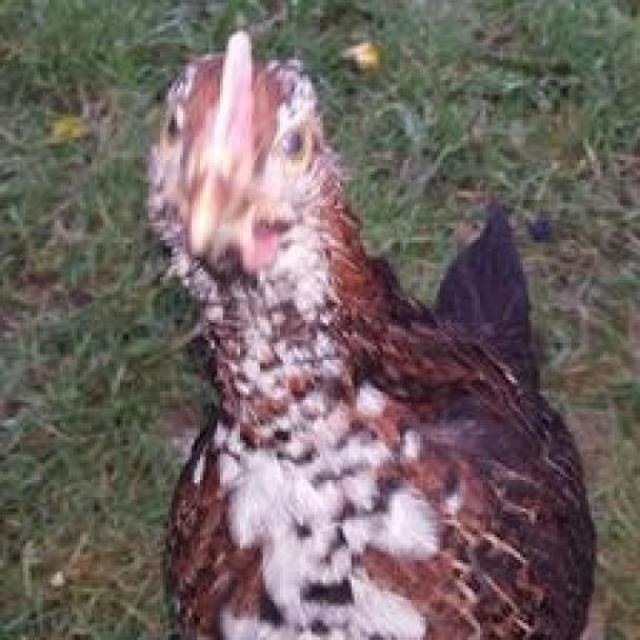Chicken: (112, 11, 624, 640)
